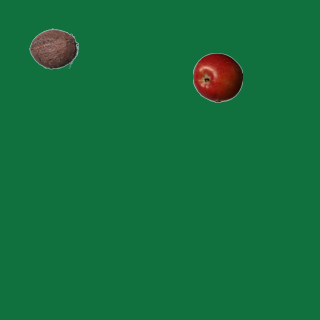Apple Braeburn: (192, 52, 242, 102)
Cocos: (28, 23, 78, 73)
